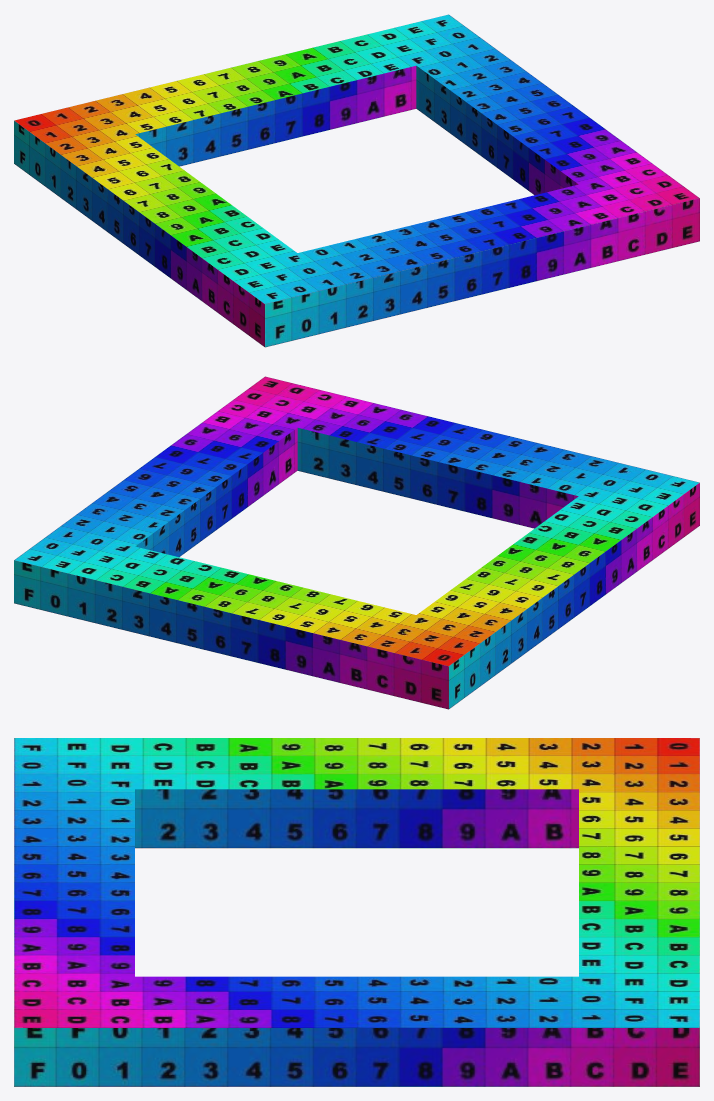
File: bbuilder_box with medium hole square.dae
The picture shows the model from 3 angles, top to bottom: view 1: azimuth 30°, elevation 25°; view 2: azimuth 150°, elevation 25°; view 3: azimuth 270°, elevation 25°; orthographic projection. The views are drawn at different scales.
Visible parts, largest first — view 1: SketchUp (×2); view 2: SketchUp (×2); view 3: SketchUp (×2).
Boxes of the visible parts, x1,y1,x2,y2 form: SketchUp (×2): [14, 14, 699, 347]; SketchUp (×2): [14, 376, 699, 709]; SketchUp (×2): [14, 738, 699, 1086].
Size of the model in its own units: 134 by 134 by 12.69.
